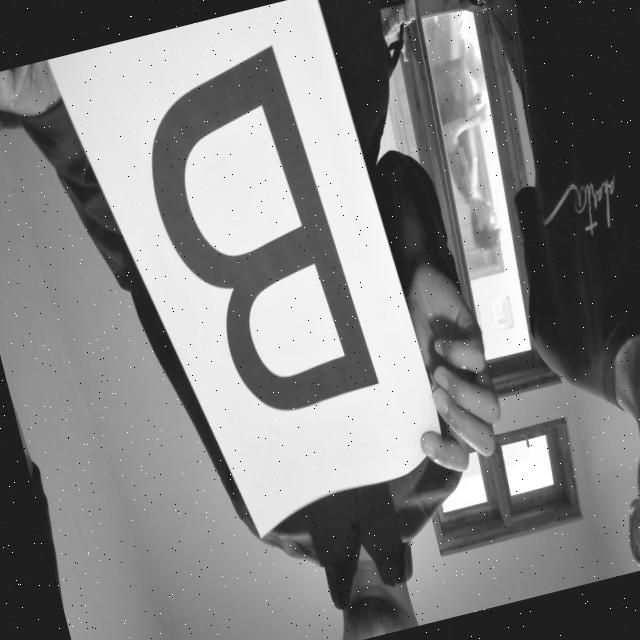b: (113, 16, 394, 448)
